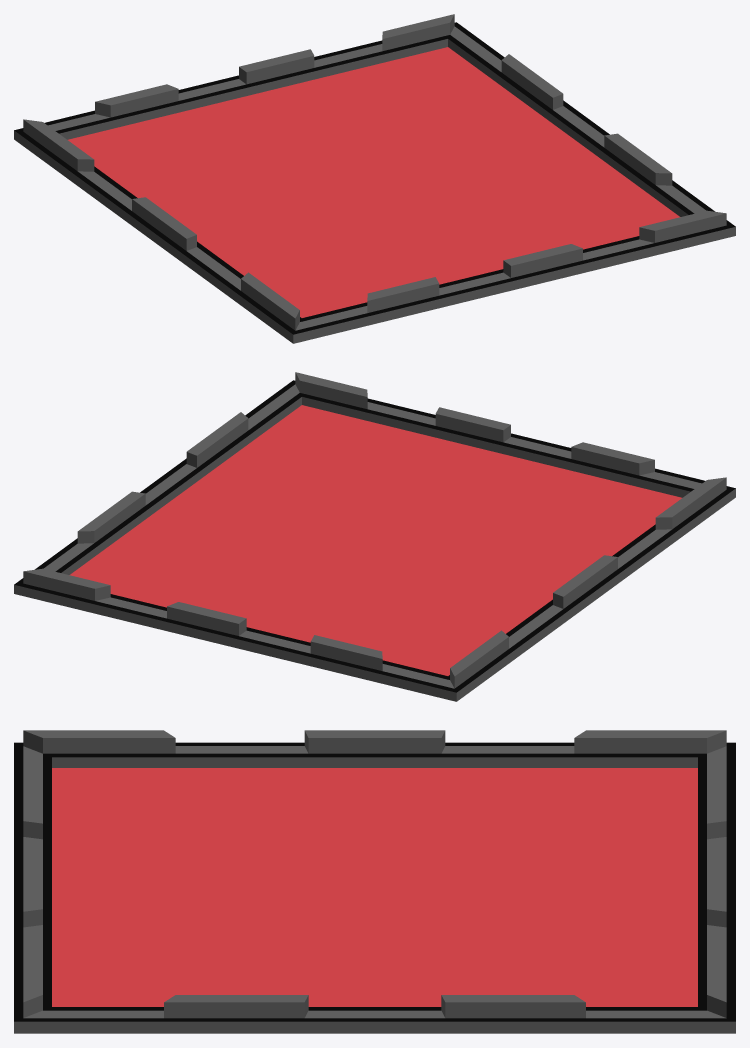
File: plateau.glb
3 views of the same model, one above another, from view 1: azimuth 30°, elevation 25°; view 2: azimuth 150°, elevation 25°; view 3: azimuth 270°, elevation 25° (orthographic). The views are drawn at different scales.
Parts seen in each view (by area): view 1: Cube; view 2: Cube; view 3: Cube.
Part boxes in pixels (<box>): Cube: <box>14,14,735,343</box>; Cube: <box>14,372,735,701</box>; Cube: <box>14,730,735,1033</box>.
Bounding box in the file's own units: 41.37 × 1.91 × 45.21.
